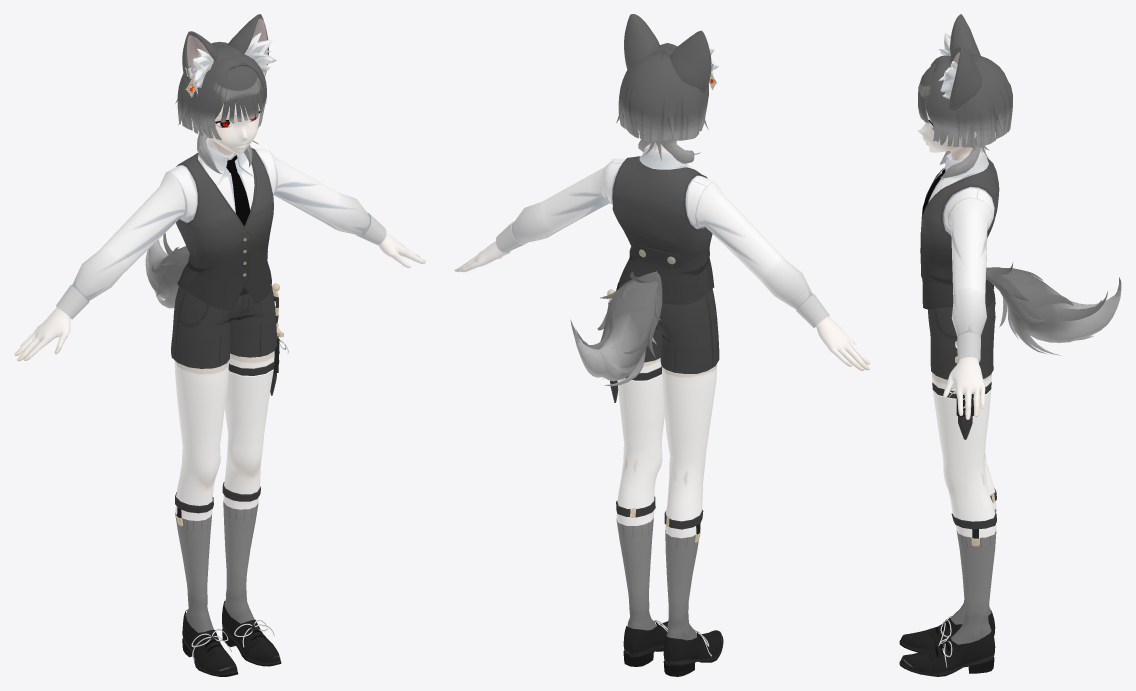
The model's file is GLB Shigan 4.2 .glb.
3 renders of one model, left to right at view 1: azimuth 30°, elevation 25°; view 2: azimuth 150°, elevation 25°; view 3: azimuth 270°, elevation 25°, orthographic.
Visible parts, largest first — view 1: Шорты, Рука, Волосы, Лицо; view 2: Шорты, Рука, Волосы; view 3: Шорты, Рука, Волосы, Лицо.
Part boxes in pixels (bbox=[...]): Шорты: bbox=[145, 233, 288, 676]; Рука: bbox=[14, 137, 425, 361]; Волосы: bbox=[175, 14, 276, 173]; Лицо: bbox=[191, 103, 260, 158]; Шорты: bbox=[570, 271, 723, 676]; Рука: bbox=[454, 145, 870, 370]; Волосы: bbox=[616, 14, 718, 163]; Шорты: bbox=[899, 263, 1121, 676]; Рука: bbox=[920, 147, 999, 419]; Волосы: bbox=[918, 14, 1012, 178]; Лицо: bbox=[918, 110, 981, 160].
Size of the model in its own units: 1 by 1.48 by 0.473.
Materials: 7 (5 with a texture image).
